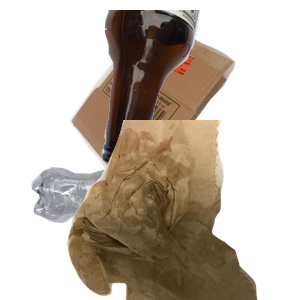cardboard: (67, 16, 295, 196)
glass: (99, 10, 300, 170)
plastic: (29, 165, 227, 300)
trash: (65, 120, 300, 300)
